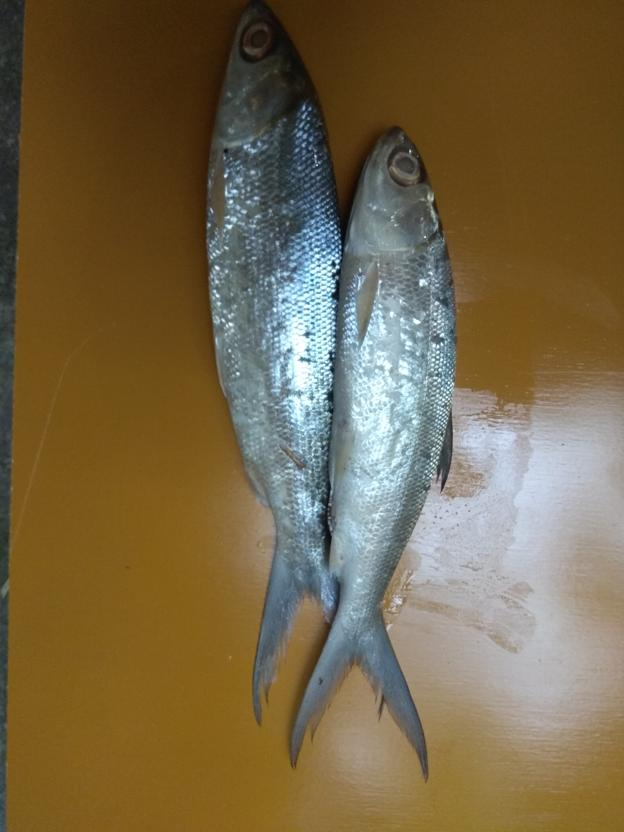Fish head: (215, 1, 313, 148), (344, 124, 446, 255)
Fish tail: (288, 612, 429, 786), (250, 535, 336, 730)
